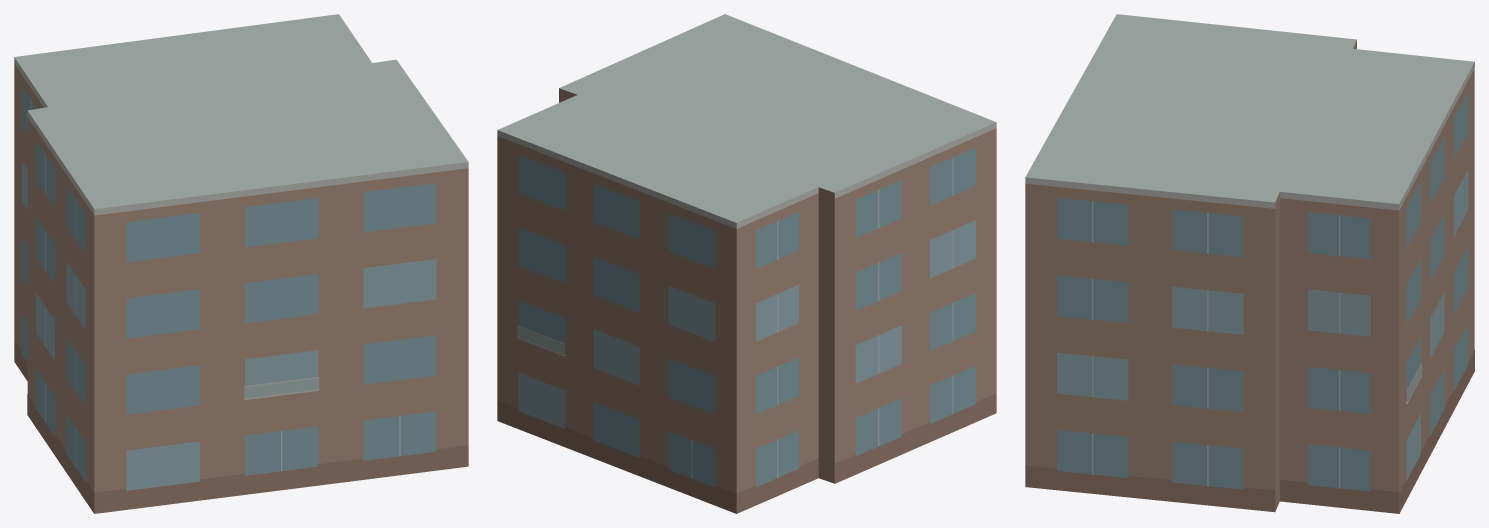
The model's file is survey-upis-32830291.glb.
3 views of the same model, side by side, from view 1: azimuth 30°, elevation 25°; view 2: azimuth 150°, elevation 25°; view 3: azimuth 270°, elevation 25° (orthographic). The views are drawn at different scales.
Visible parts, largest first — view 1: survey-upis-32830291.tmp; view 2: survey-upis-32830291.tmp; view 3: survey-upis-32830291.tmp.
Boxes of the visible parts, left/top/right/bottom form: survey-upis-32830291.tmp: left=14, top=14, right=468, bottom=513; survey-upis-32830291.tmp: left=497, top=14, right=996, bottom=513; survey-upis-32830291.tmp: left=1025, top=14, right=1474, bottom=513.
Bounding box in the file's own units: 15.69 × 11.9 × 15.67.
